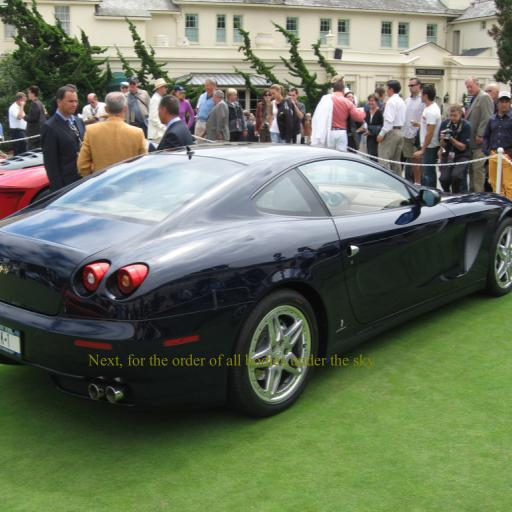Times New Roman: (87, 354, 375, 369)
